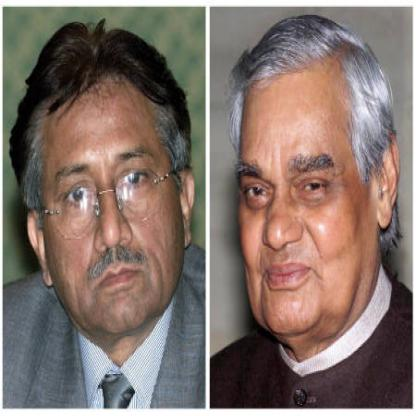face: (223, 32, 381, 347), (38, 44, 183, 342)
